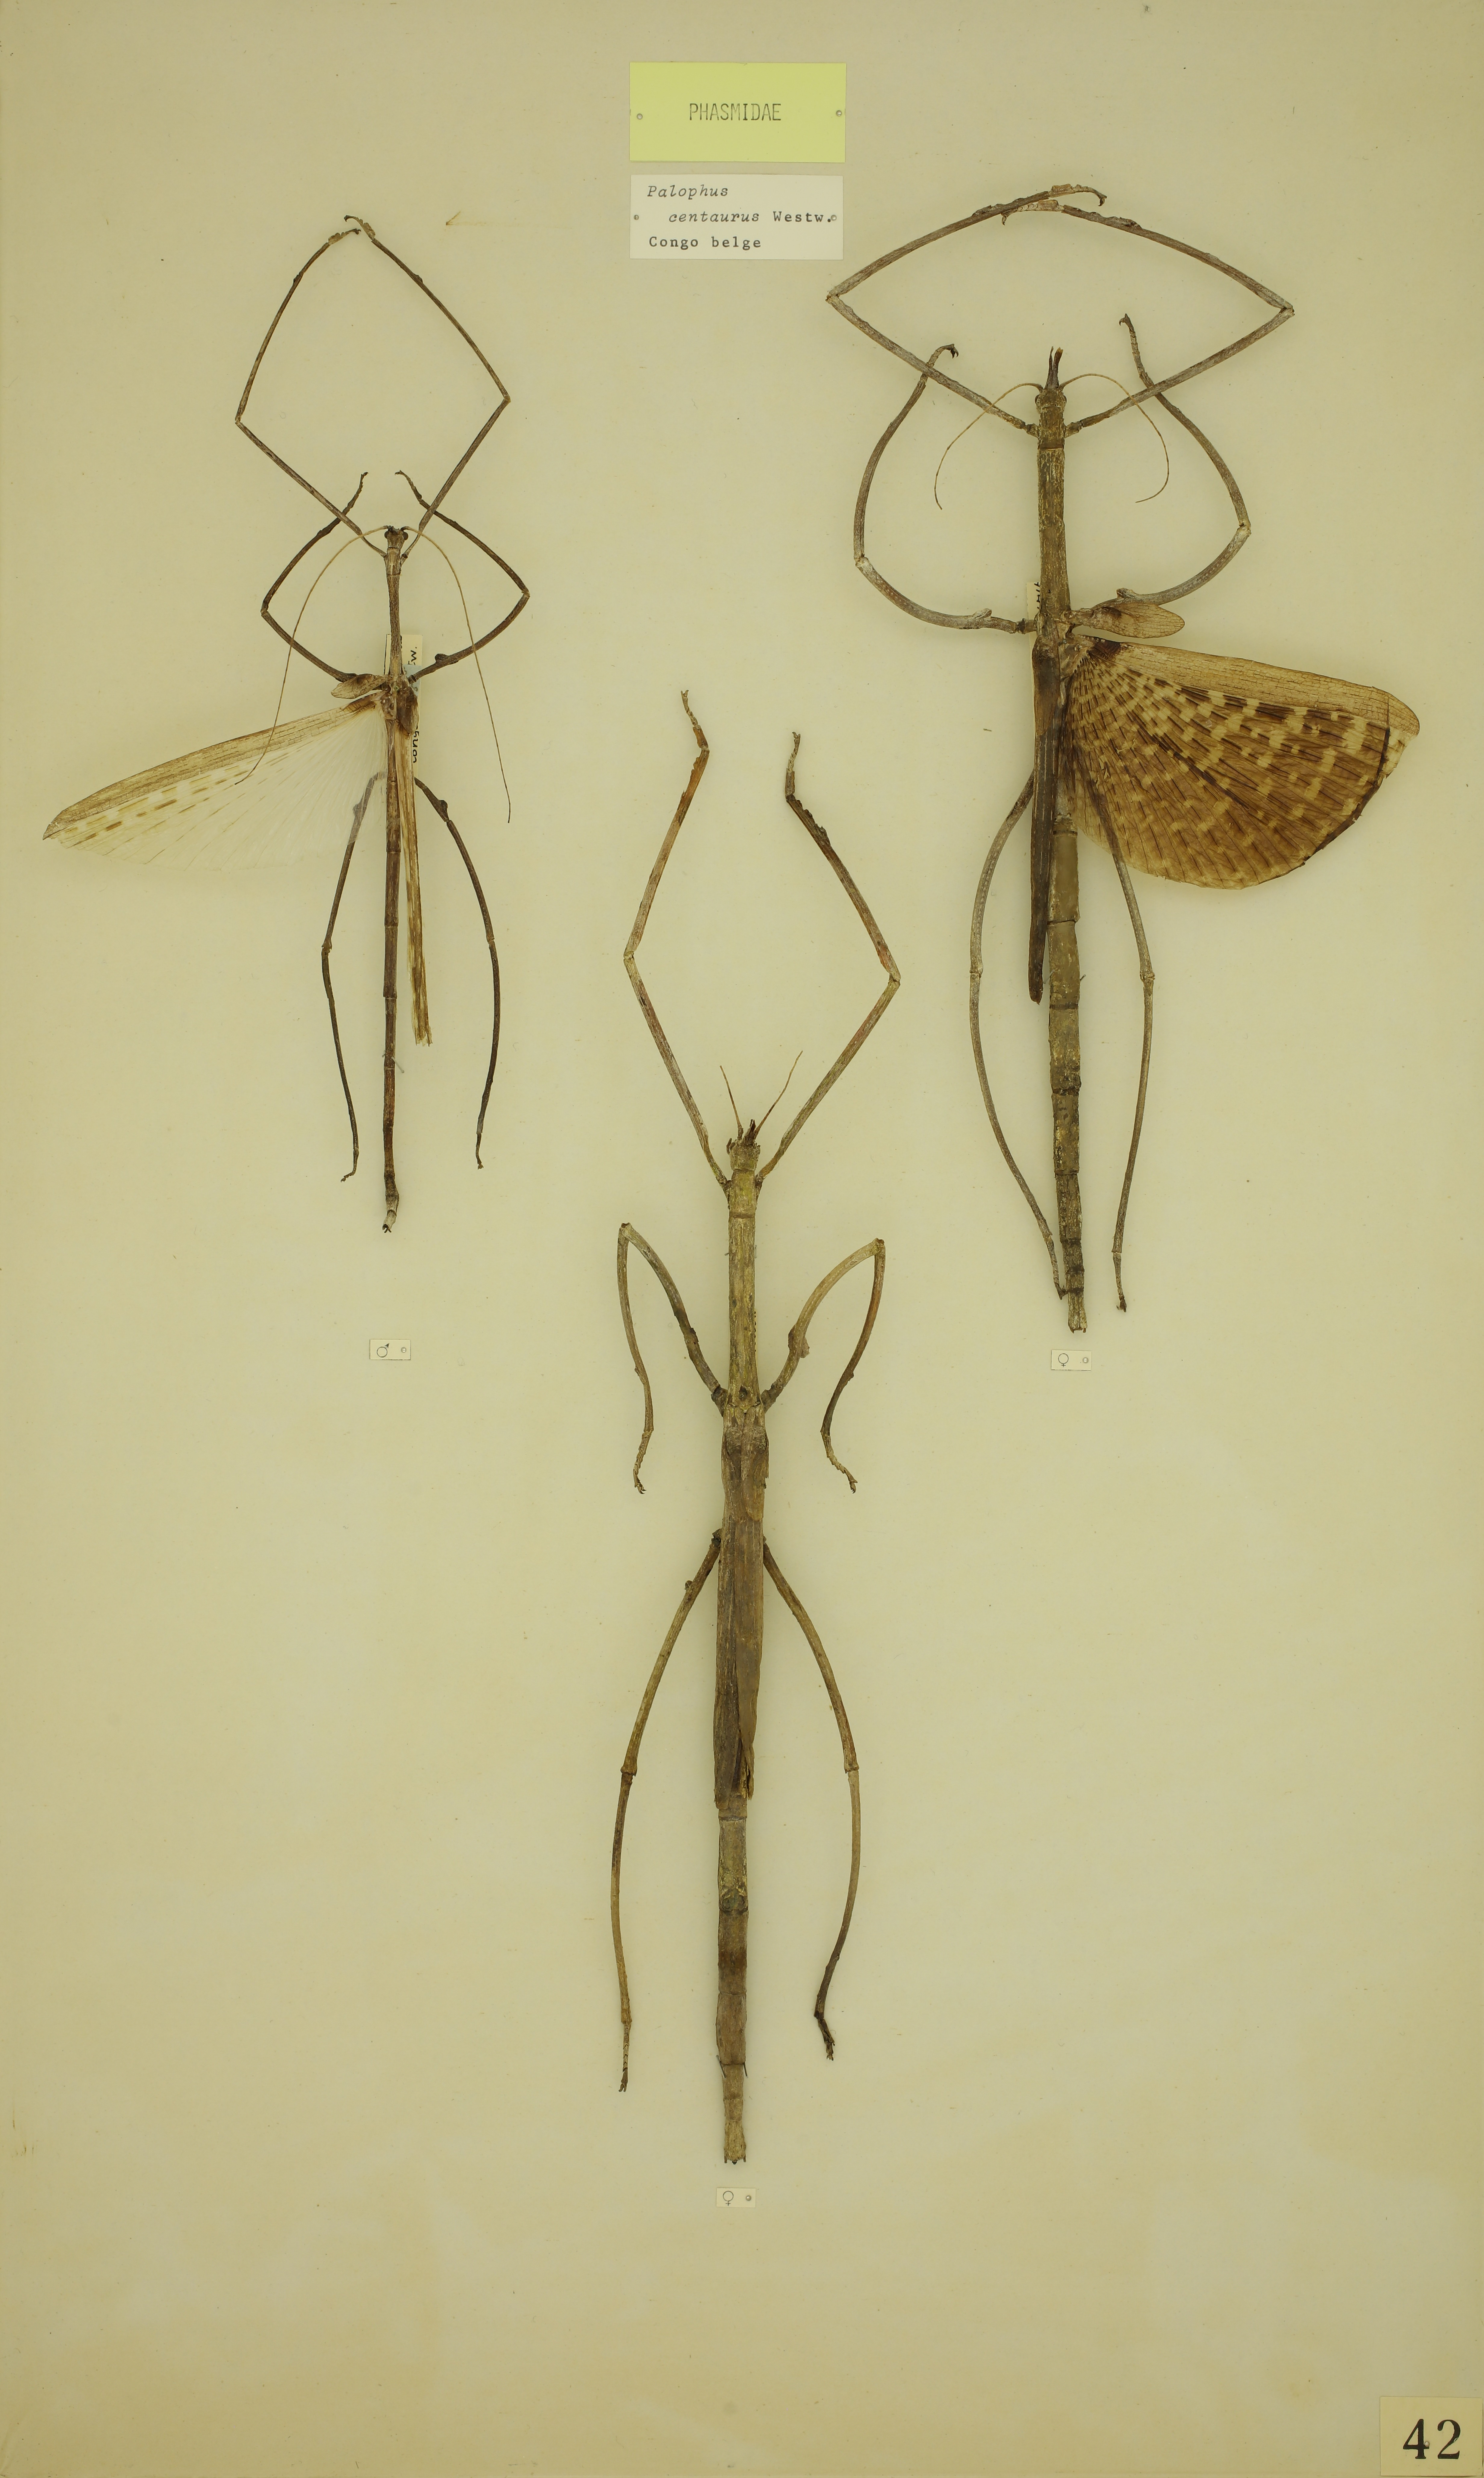insect: (811, 129, 1443, 1406), (523, 661, 912, 2206), (25, 162, 562, 1258)
